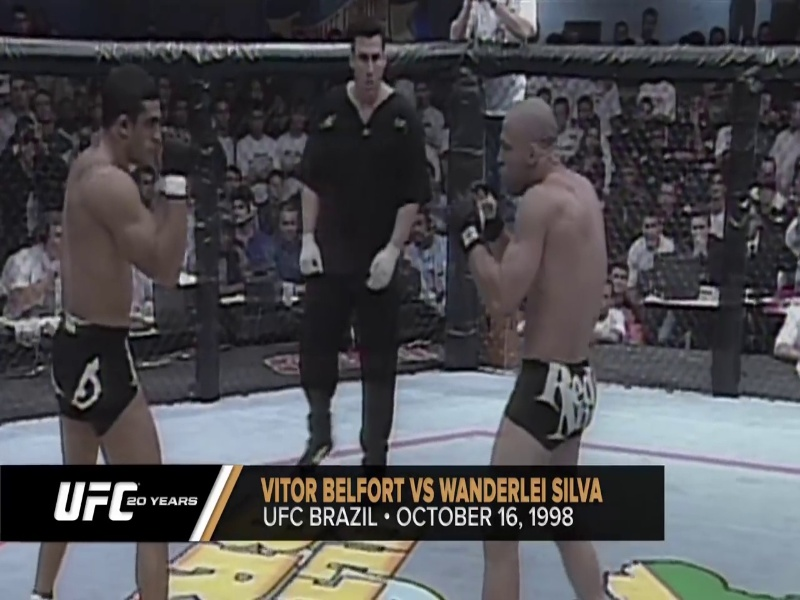fighter: (443, 81, 636, 600), (42, 61, 206, 600)
